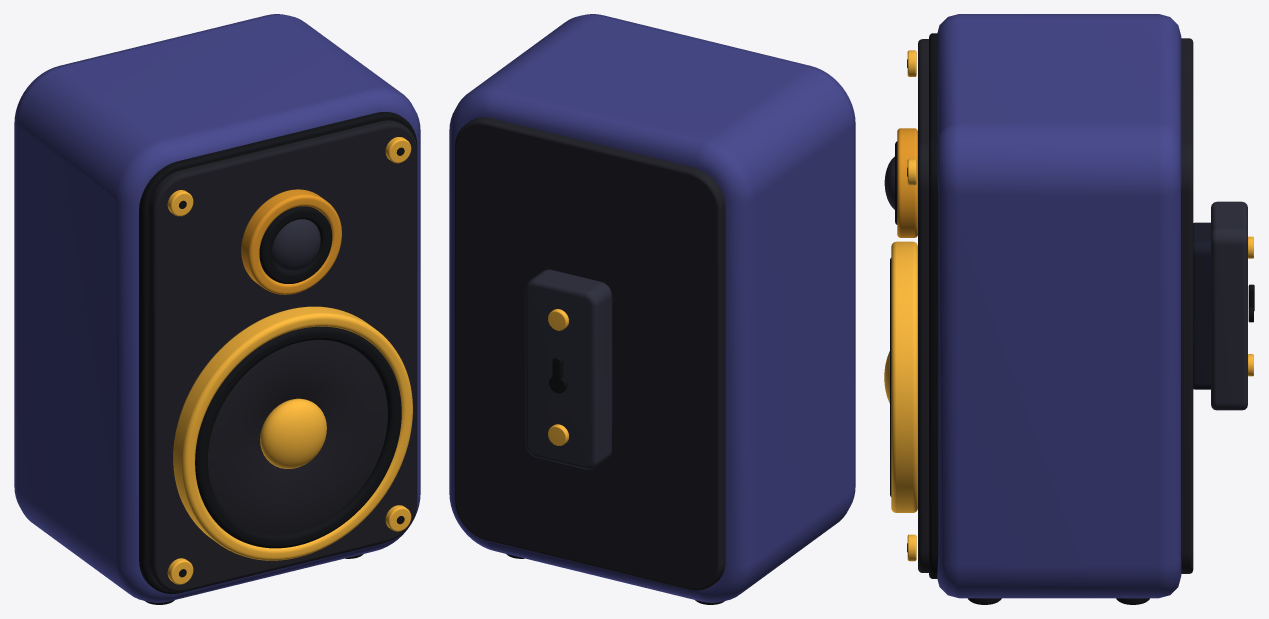
The model's file is StudioSpeaker.glb.
3 views of the same model, side by side, from view 1: azimuth 30°, elevation 25°; view 2: azimuth 150°, elevation 25°; view 3: azimuth 270°, elevation 25° (orthographic). The views are drawn at different scales.
Visible parts, largest first — view 1: RoundedBlueCabinet, DarkFrontBaffle, WooferConcaveCone, WooferGoldRim, WooferRubberSurround, FrontDarkGasket, TweeterGoldRim, GoldWooferDustCap, TweeterBlackSurround, TweeterDome; view 2: RearCover, RoundedBlueCabinet, RearMountBracket; view 3: RoundedBlueCabinet, RearMountBracket, WooferGoldRim, RearCover, DarkFrontBaffle, FrontDarkGasket, RearBracketSpacer, TweeterGoldRim.
Boxes of the visible parts, x1,y1,x2,y2 form: RoundedBlueCabinet: (14, 14, 420, 602); DarkFrontBaffle: (149, 120, 417, 592); WooferConcaveCone: (207, 340, 387, 533); WooferGoldRim: (173, 306, 412, 560); WooferRubberSurround: (195, 326, 401, 548); FrontDarkGasket: (139, 112, 417, 593); TweeterGoldRim: (241, 189, 341, 294); GoldWooferDustCap: (260, 398, 326, 468); TweeterBlackSurround: (259, 206, 332, 283); TweeterDome: (272, 219, 320, 271); RearCover: (455, 117, 725, 590); RoundedBlueCabinet: (449, 14, 855, 602); RearMountBracket: (525, 269, 611, 469); RoundedBlueCabinet: (937, 14, 1181, 598); RearMountBracket: (1211, 201, 1247, 410); WooferGoldRim: (891, 241, 917, 512); RearCover: (1181, 38, 1193, 573); DarkFrontBaffle: (918, 39, 928, 572); FrontDarkGasket: (929, 33, 938, 578); RearBracketSpacer: (1193, 222, 1210, 389); TweeterGoldRim: (897, 128, 917, 237).
Size of the model in its own units: 0.48 by 0.715 by 0.4995.
Materials: 7 (7 with a texture image).
